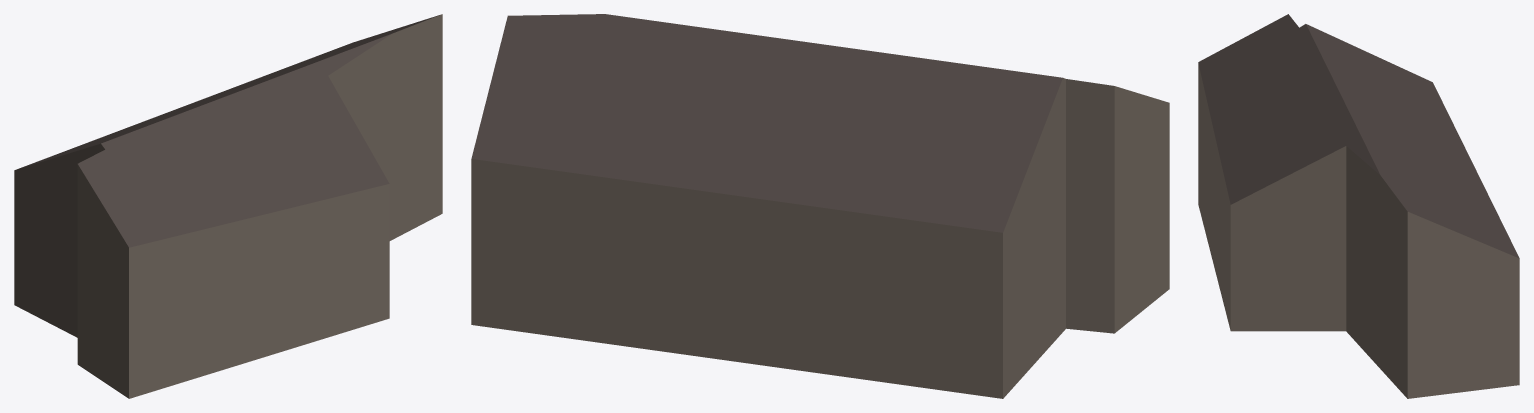
The picture shows the model from 3 angles, left to right: view 1: azimuth 30°, elevation 25°; view 2: azimuth 150°, elevation 25°; view 3: azimuth 270°, elevation 25°; orthographic projection. The views are drawn at different scales.
Parts seen in each view (by area): view 1: HP-w776800985; view 2: HP-w776800985; view 3: HP-w776800985.
Part boxes in pixels (x1=…): HP-w776800985: x1=14, y1=14, x2=442, y2=398; HP-w776800985: x1=471, y1=14, x2=1169, y2=398; HP-w776800985: x1=1198, y1=14, x2=1519, y2=398.
Size of the model in its own units: 19.98 by 9.19 by 13.83.
